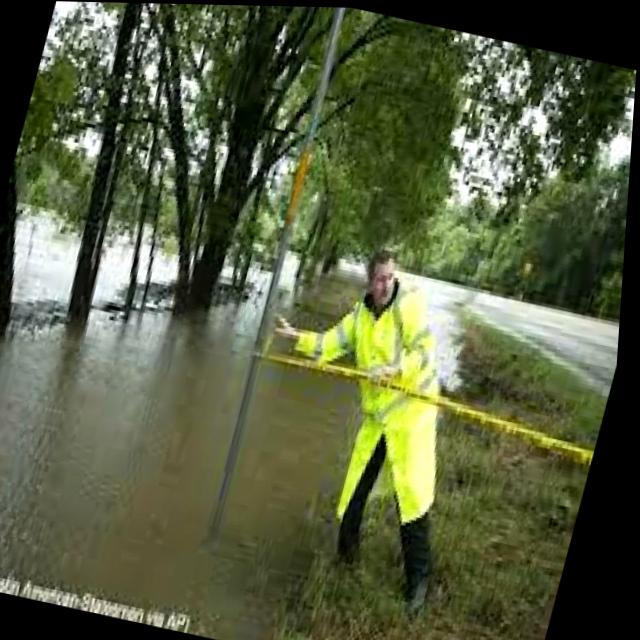rescuer: (223, 228, 540, 598)
